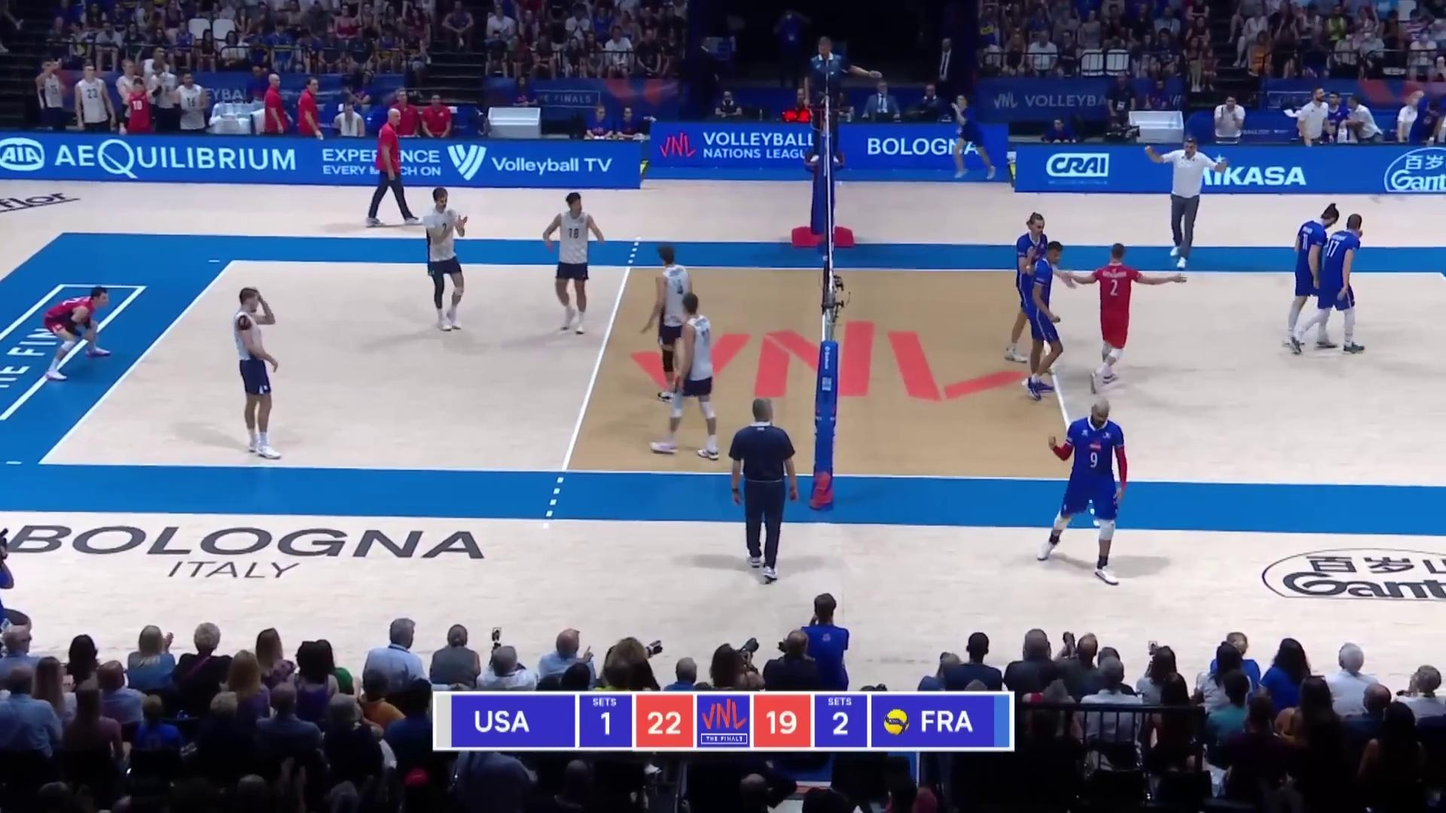player: (1071, 244, 1162, 387), (650, 290, 719, 459), (232, 286, 285, 465), (644, 240, 699, 400), (539, 198, 600, 337), (1285, 204, 1339, 355), (1010, 213, 1064, 360), (1018, 242, 1068, 398), (1319, 214, 1372, 356), (43, 285, 114, 381), (426, 190, 471, 331)
refree: (1039, 400, 1133, 582), (731, 399, 802, 578), (804, 41, 850, 169)
